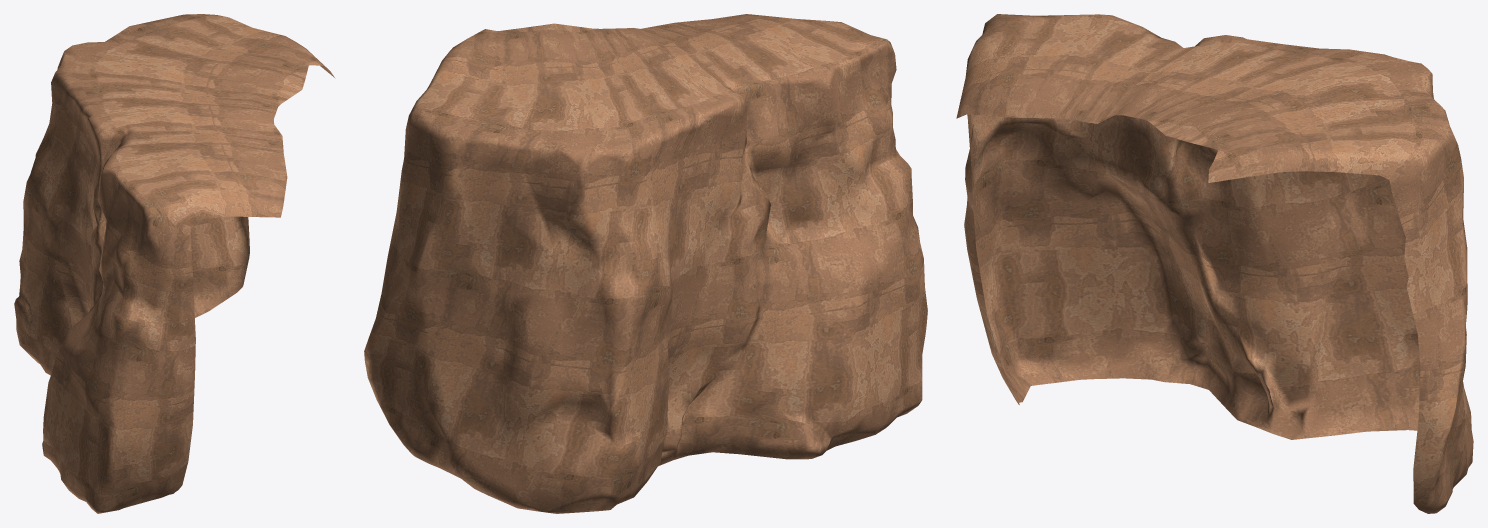
The model's file is Ob_RockCliff35.fbx.
3 views of the same model, side by side, from view 1: azimuth 30°, elevation 25°; view 2: azimuth 150°, elevation 25°; view 3: azimuth 270°, elevation 25° (orthographic). The views are drawn at different scales.
Visible parts, largest first — view 1: Ob_RockCliff35; view 2: Ob_RockCliff35; view 3: Ob_RockCliff35.
Part boxes in pixels (x1,y1,x2,y2): Ob_RockCliff35: [14, 14, 335, 513]; Ob_RockCliff35: [364, 14, 927, 513]; Ob_RockCliff35: [956, 14, 1473, 513].
Bounding box in the file's own units: 13061 × 12797 × 14962.
